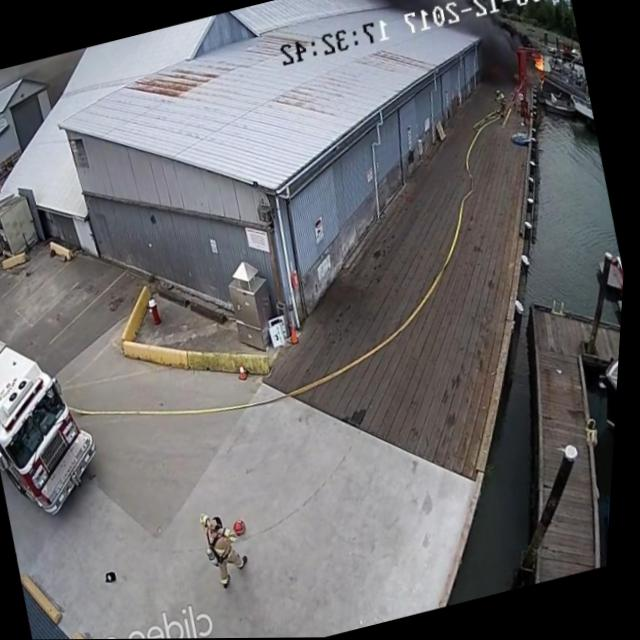fire: (523, 48, 555, 91)
